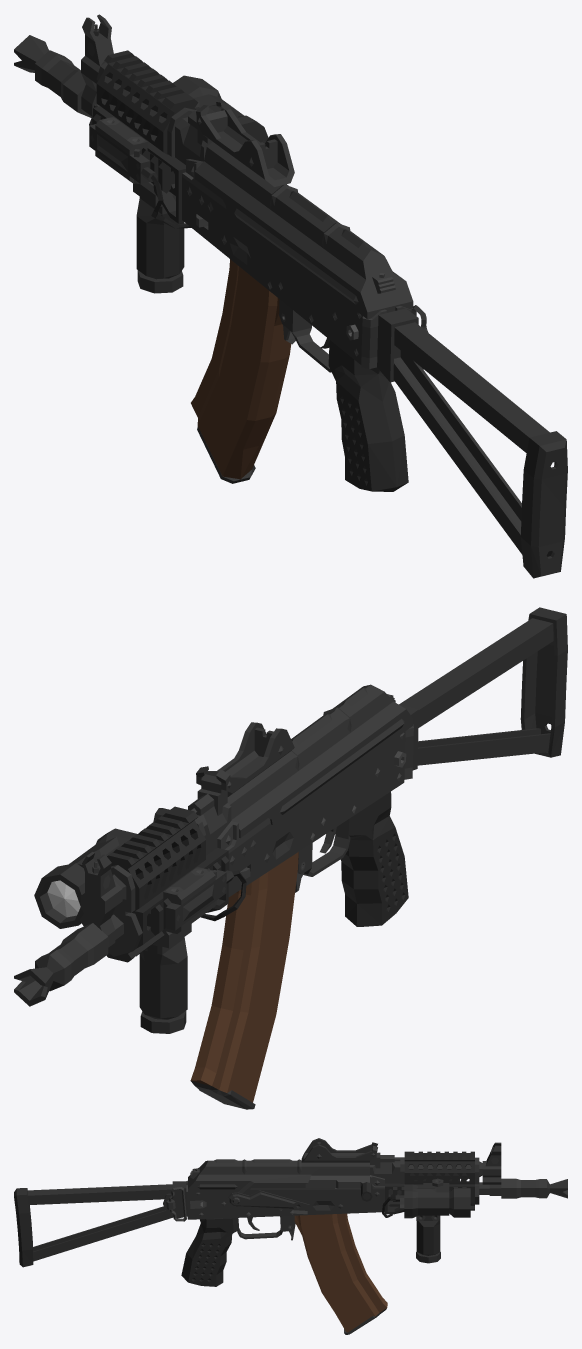
The model's file is weapon.glb.
3 views of the same model, one above another, from view 1: azimuth 30°, elevation 25°; view 2: azimuth 150°, elevation 25°; view 3: azimuth 270°, elevation 25° (orthographic). The views are drawn at different scales.
Parts seen in each view (by area): view 1: aks74un_foldingstock_15, aks74un_dust_cover_10, aks74un_bmag_14, aks74un_reciever_6, zenit_rk3_2, zenit_b19_1, aks74un_barrelassembly_13, zenit_klesch_2d_4, zenit_rk5_3, zenit_b11_0, aks74un_rsb_16, aks74un_trunnion_front_8 (+1 smaller); view 2: aks74un_bmag_14, aks74un_dust_cover_10, aks74un_foldingstock_15, aks74un_reciever_6, aks74un_barrelassembly_13, zenit_klesch_2d_4, zenit_rk3_2, zenit_b19_1, zenit_rk5_3, zenit_b11_0, aks74un_rsb_16, aks74un_trunnion_front_8; view 3: aks74un_foldingstock_15, aks74un_bmag_14, aks74un_dust_cover_10, aks74un_reciever_6, aks74un_barrelassembly_13, zenit_rk3_2, zenit_klesch_2d_4, zenit_b19_1, zenit_rk5_3, aks74un_fire_selector_9, aks74un_boltcarrier_12, zenit_b11_0 (+1 smaller).
Part boxes in pixels (<box>): aks74un_foldingstock_15: <box>361,305,567,578</box>; aks74un_dust_cover_10: <box>194,102,413,319</box>; aks74un_bmag_14: <box>191,259,291,483</box>; aks74un_reciever_6: <box>182,177,411,372</box>; zenit_rk3_2: <box>328,340,408,491</box>; zenit_b19_1: <box>96,50,198,154</box>; aks74un_barrelassembly_13: <box>14,14,196,156</box>; zenit_klesch_2d_4: <box>89,75,268,228</box>; zenit_rk5_3: <box>133,182,184,293</box>; zenit_b11_0: <box>92,106,185,223</box>; aks74un_rsb_16: <box>175,110,227,164</box>; aks74un_trunnion_front_8: <box>182,159,226,244</box>; aks74un_bmag_14: <box>190,852,298,1109</box>; aks74un_dust_cover_10: <box>196,684,413,837</box>; aks74un_foldingstock_15: <box>399,607,567,770</box>; aks74un_reciever_6: <box>228,731,405,896</box>; aks74un_barrelassembly_13: <box>14,818,205,1006</box>; zenit_klesch_2d_4: <box>34,828,246,933</box>; zenit_rk3_2: <box>340,791,408,926</box>; zenit_b19_1: <box>107,806,205,910</box>; zenit_rk5_3: <box>139,924,191,1033</box>; zenit_b11_0: <box>106,848,229,962</box>; aks74un_rsb_16: <box>188,774,231,855</box>; aks74un_trunnion_front_8: <box>217,818,270,880</box>; aks74un_foldingstock_15: <box>14,1181,187,1267</box>; aks74un_bmag_14: <box>294,1213,387,1334</box>; aks74un_dust_cover_10: <box>188,1138,377,1192</box>; aks74un_reciever_6: <box>186,1184,384,1240</box>; aks74un_barrelassembly_13: <box>400,1142,567,1204</box>; zenit_rk3_2: <box>181,1218,238,1286</box>; zenit_klesch_2d_4: <box>382,1178,470,1218</box>; zenit_b19_1: <box>404,1151,474,1184</box>; zenit_rk5_3: <box>416,1215,440,1263</box>; aks74un_fire_selector_9: <box>228,1190,309,1214</box>; aks74un_boltcarrier_12: <box>305,1169,369,1188</box>; zenit_b11_0: <box>385,1176,474,1214</box>.
Bounding box in the file's own units: 0.5628 × 1.46 × 3.83.
Materials: 1 (1 with a texture image).
